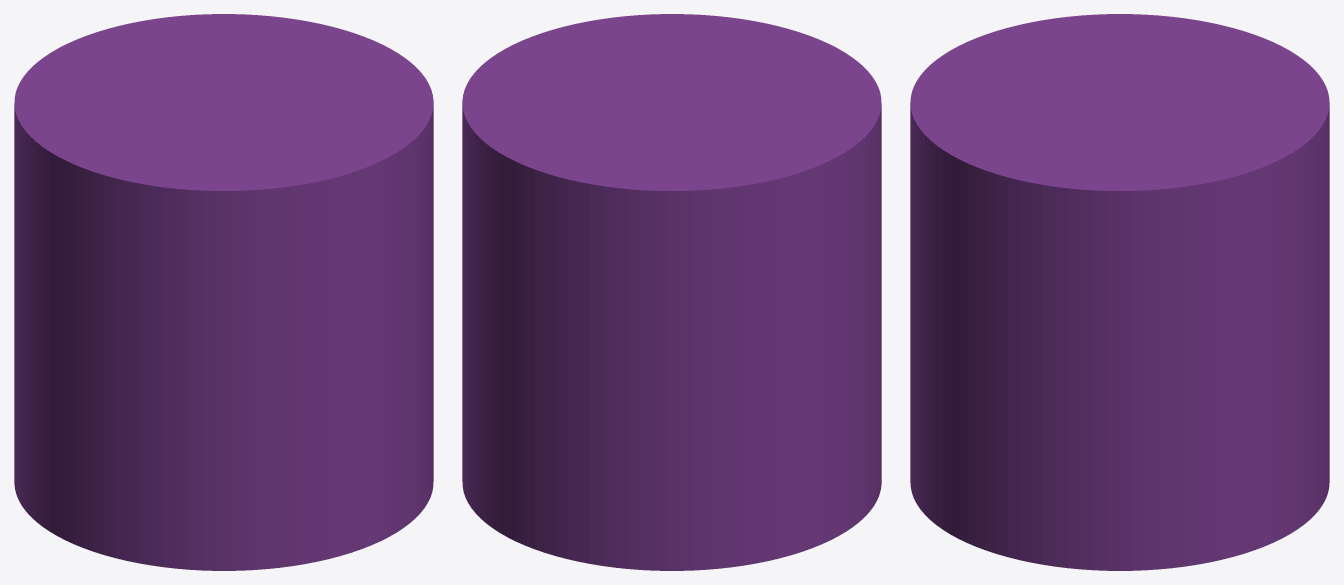
Rendered from CylinderP.fbx.
3 renders of one model, left to right at view 1: azimuth 30°, elevation 25°; view 2: azimuth 150°, elevation 25°; view 3: azimuth 270°, elevation 25°, orthographic.
Parts seen in each view (by area): view 1: CylinderP; view 2: CylinderP; view 3: CylinderP.
Boxes of the visible parts, x1,y1,x2,y2 form: CylinderP: (14, 14, 433, 570); CylinderP: (462, 14, 881, 570); CylinderP: (910, 14, 1329, 570).
Size of the model in its own units: 600 by 600 by 600.
